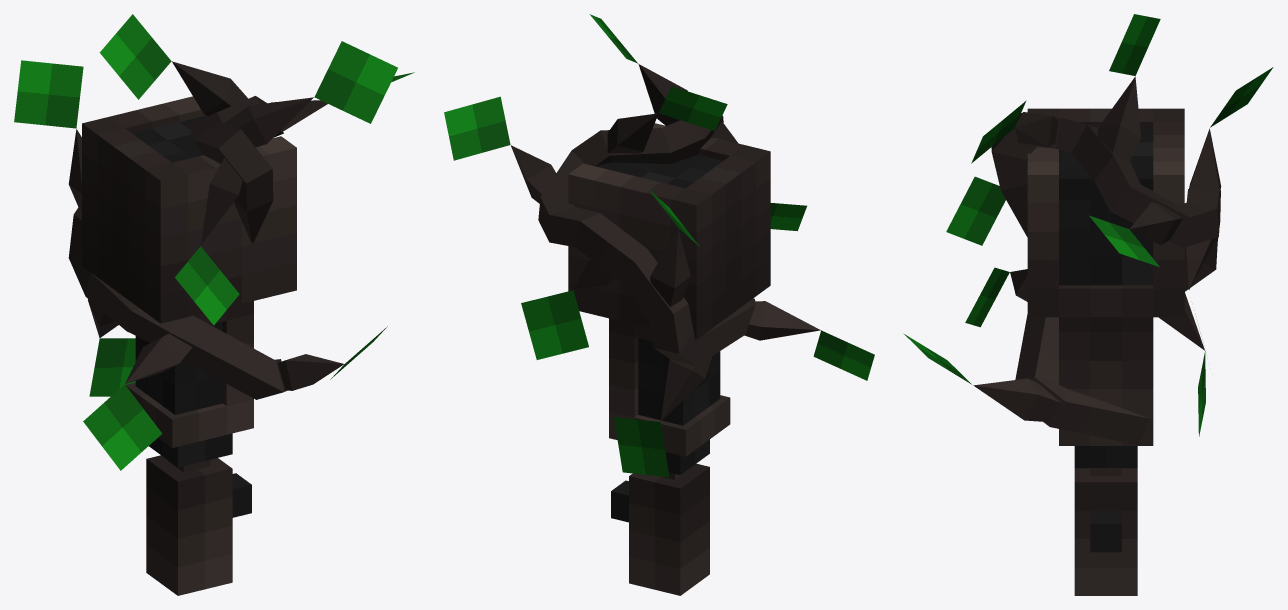
File: arm_nozzle_r.obj
3 views of the same model, side by side, from view 1: azimuth 30°, elevation 25°; view 2: azimuth 150°, elevation 25°; view 3: azimuth 270°, elevation 25° (orthographic). The views are drawn at different scales.
Visible parts, largest first — view 1: ARM_RIGHT_NOZZLE_Cube.048, ARM_RIGHT_DECO_WOOD_Cube.023; view 2: ARM_RIGHT_NOZZLE_Cube.048, ARM_RIGHT_DECO_WOOD_Cube.023; view 3: ARM_RIGHT_NOZZLE_Cube.048, ARM_RIGHT_DECO_WOOD_Cube.023.
Part boxes in pixels (<box>): ARM_RIGHT_NOZZLE_Cube.048: <box>82,96,296,595</box>; ARM_RIGHT_DECO_WOOD_Cube.023: <box>14,14,414,470</box>; ARM_RIGHT_NOZZLE_Cube.048: <box>568,123,770,595</box>; ARM_RIGHT_DECO_WOOD_Cube.023: <box>444,14,874,477</box>; ARM_RIGHT_NOZZLE_Cube.048: <box>1027,108,1184,595</box>; ARM_RIGHT_DECO_WOOD_Cube.023: <box>903,14,1273,445</box>.
Bounding box in the file's own units: 0.9066 × 1.21 × 0.7382.
